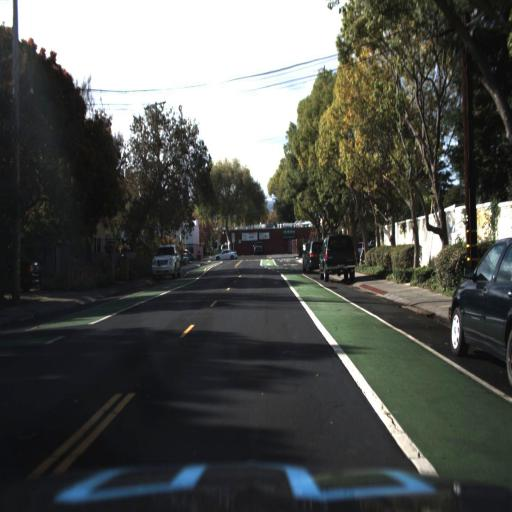car: (448, 239, 512, 391), (0, 249, 42, 303), (318, 228, 358, 282), (150, 242, 183, 279), (302, 234, 324, 275), (214, 242, 238, 261)
